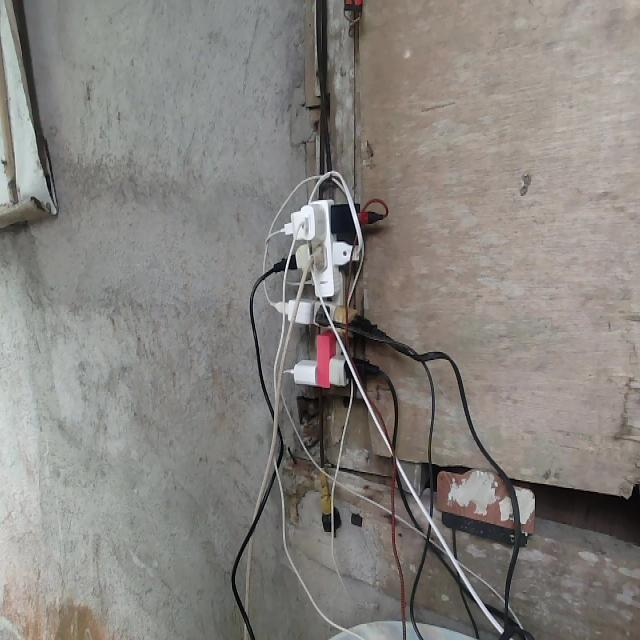-: (268, 195, 387, 384)
